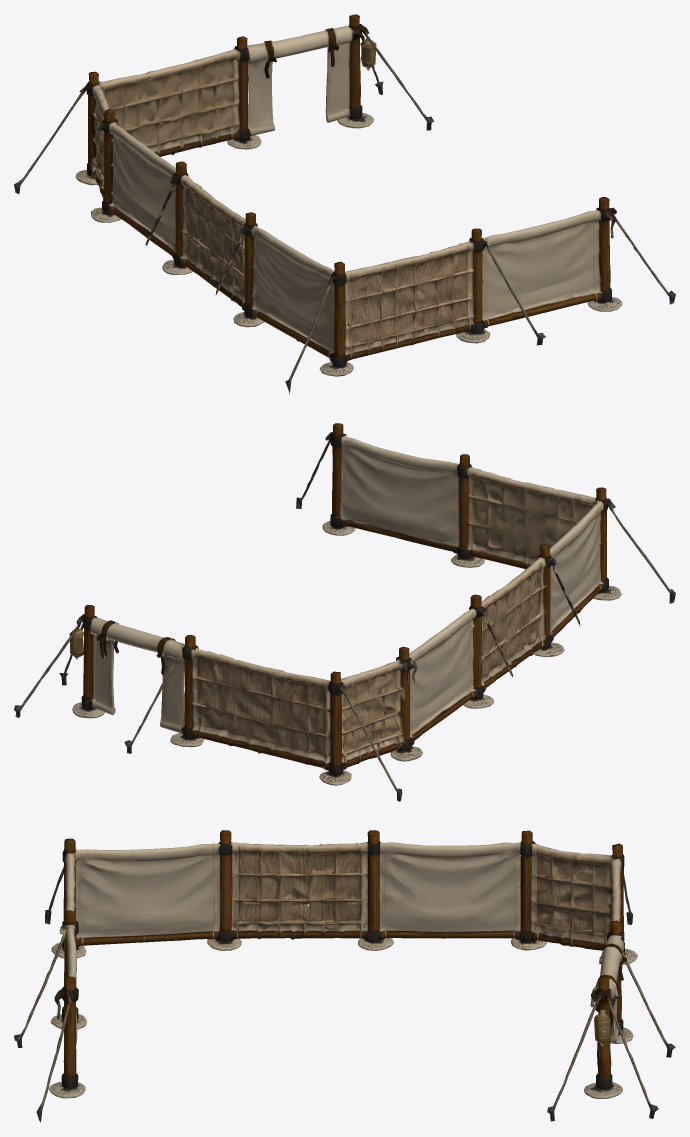
The model's file is camp-screen.glb.
The picture shows the model from 3 angles, top to bottom: view 1: azimuth 30°, elevation 25°; view 2: azimuth 150°, elevation 25°; view 3: azimuth 270°, elevation 25°; orthographic projection. The views are drawn at different scales.
Visible parts, largest first — view 1: tripo_node_8017d86a-3d7c-4ded-9dc9-750831d2391e; view 2: tripo_node_8017d86a-3d7c-4ded-9dc9-750831d2391e; view 3: tripo_node_8017d86a-3d7c-4ded-9dc9-750831d2391e.
Boxes of the visible parts, x1,y1,x2,y2 form: tripo_node_8017d86a-3d7c-4ded-9dc9-750831d2391e: (14, 14, 675, 394); tripo_node_8017d86a-3d7c-4ded-9dc9-750831d2391e: (14, 423, 675, 801); tripo_node_8017d86a-3d7c-4ded-9dc9-750831d2391e: (14, 830, 675, 1122).
Bounding box in the file's own units: 0.7174 × 0.1952 × 1.
Materials: 1 (1 with a texture image).
